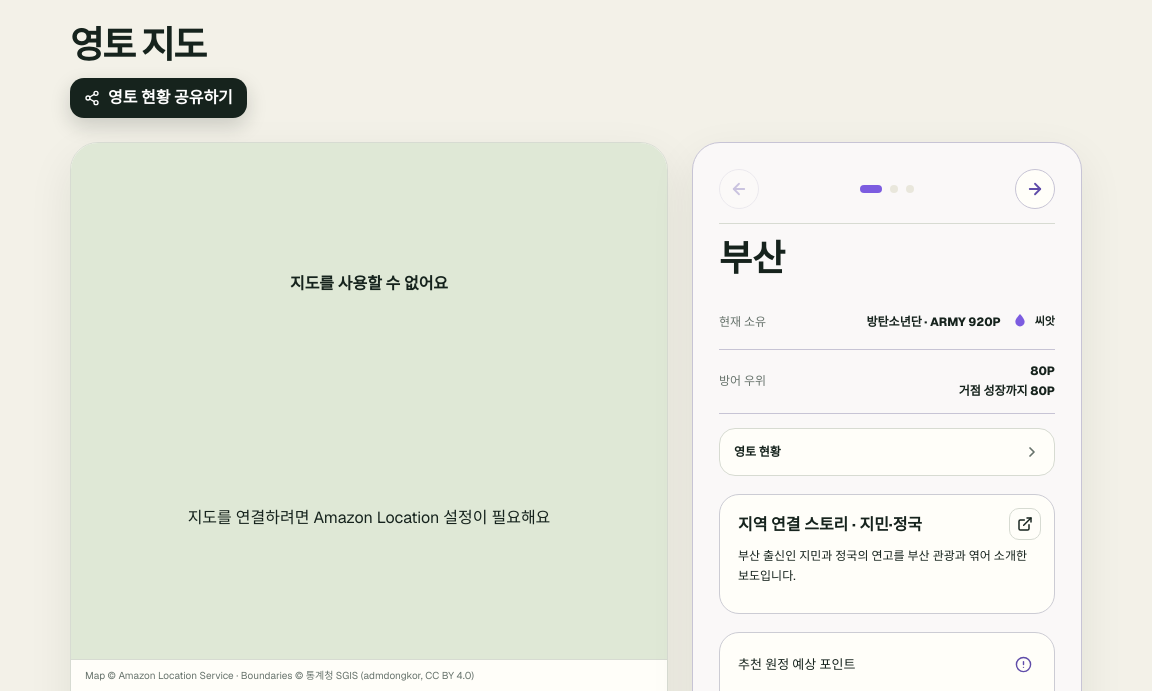
Test: explains the point breakdown from the award box help toggle
This screenshot has width=1152, height=691.
Click the button named "포인트 계산 방식 보기" at (1023, 664), box top-left (1010, 651), bottom-right (1036, 677)
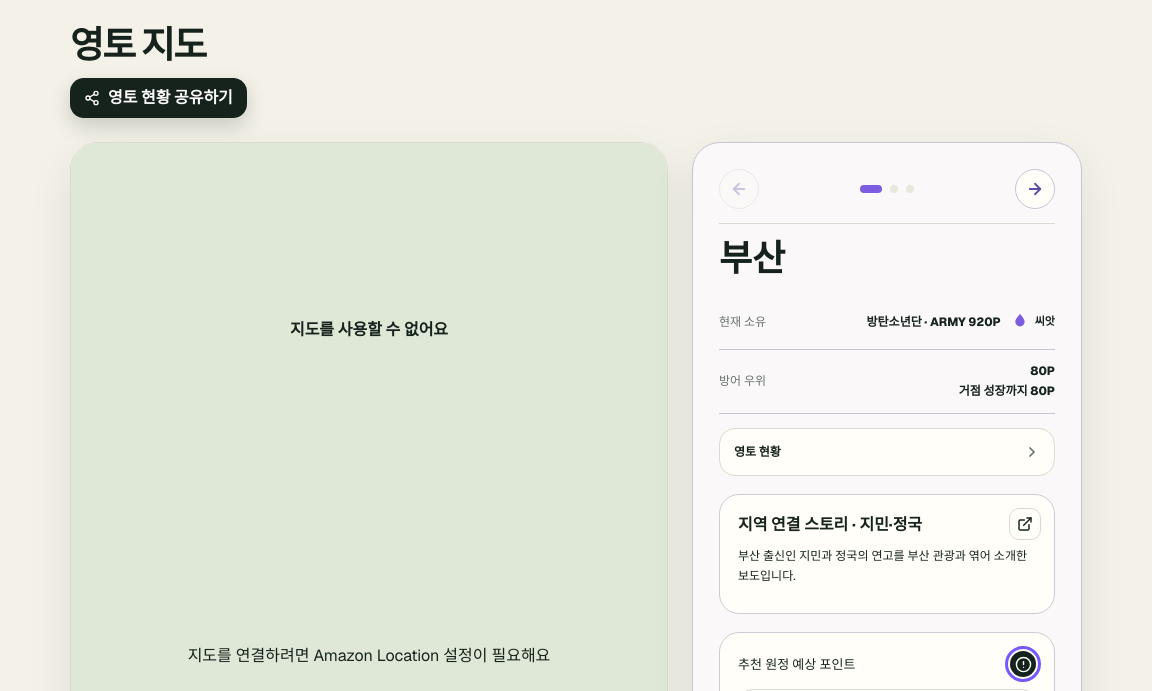
Expected: the button named "포인트 계산 방식 보기" is expanded
Click the button named "포인트 계산 방식 보기" at (1023, 664), box top-left (1010, 651), bottom-right (1036, 677)
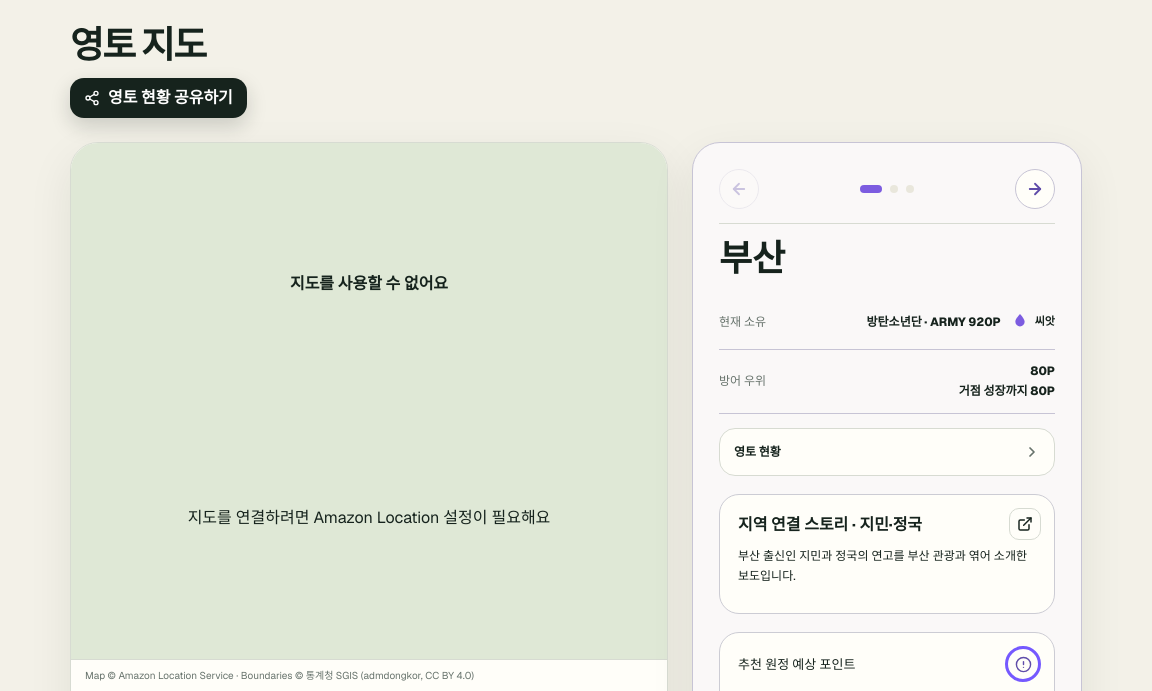
Expected: the button named "포인트 계산 방식 보기" is collapsed, top-left (1010, 651), bottom-right (1036, 677)
